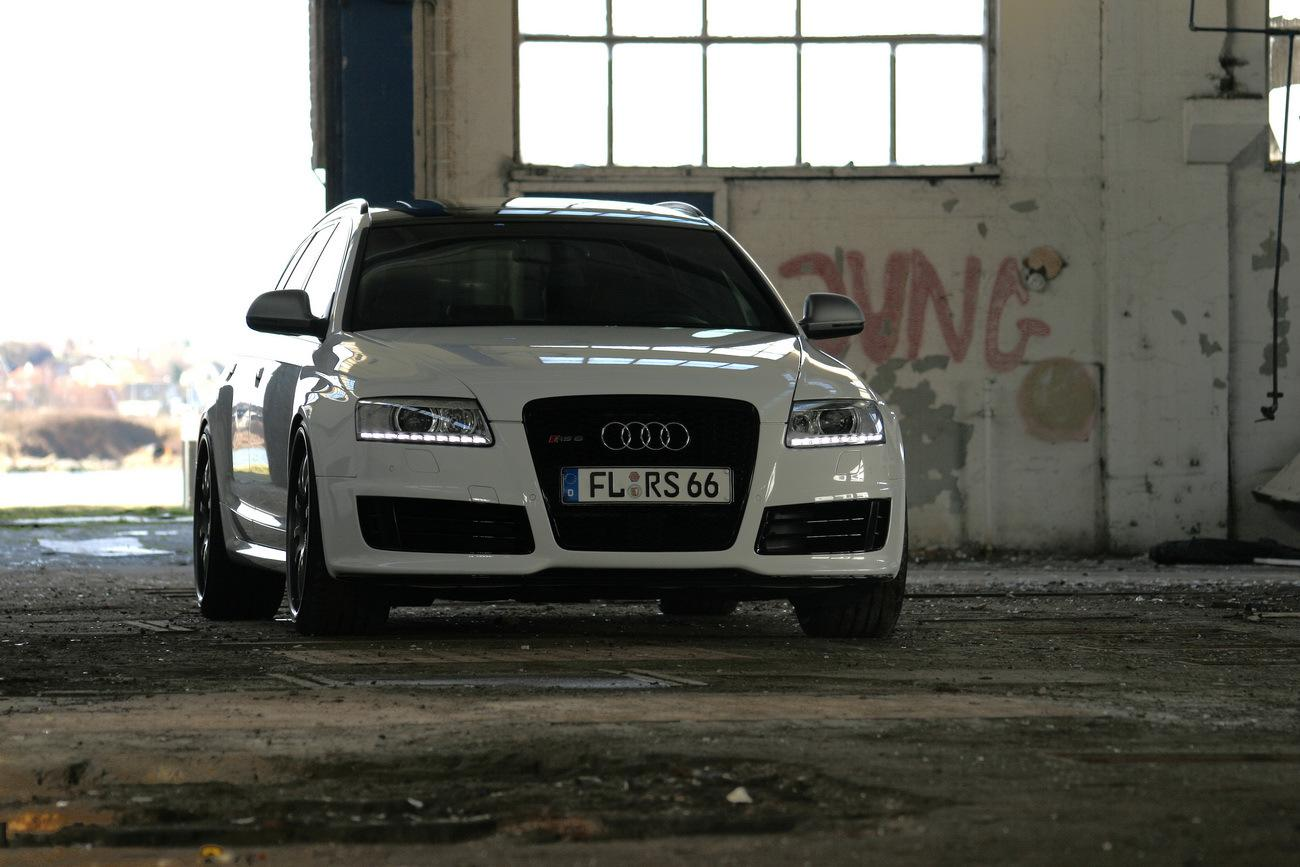Audi: (584, 402, 715, 469)
